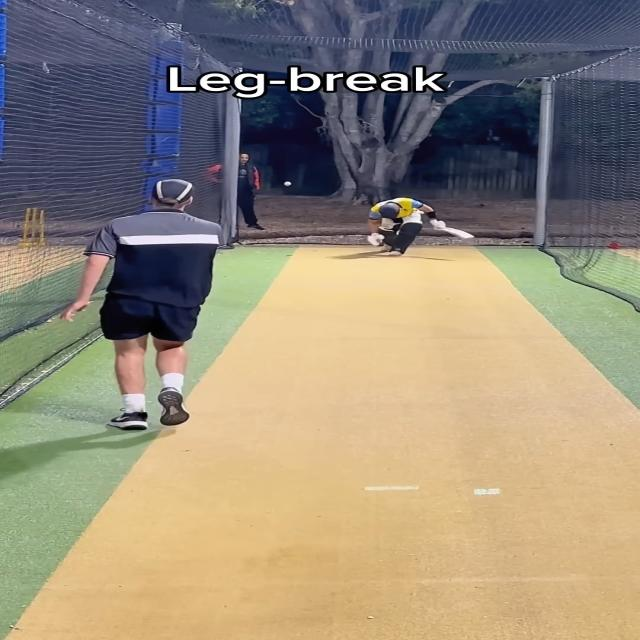Cricket ball: (284, 181, 292, 186)
